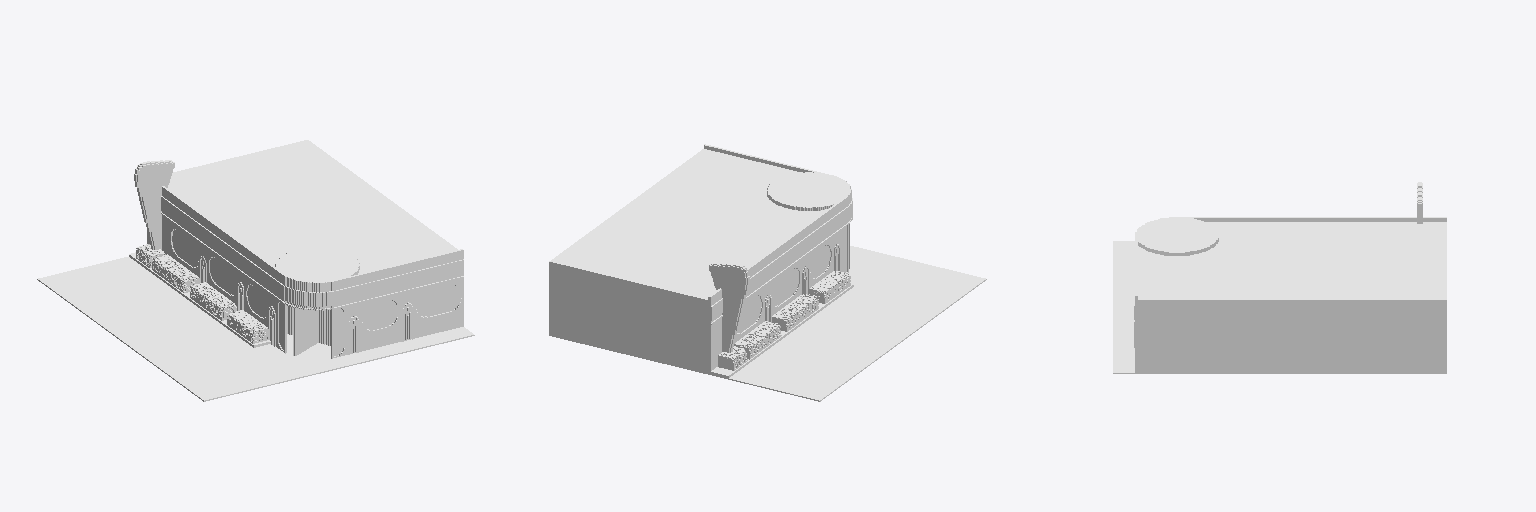
Rendered from ExtraBuildings3.obj.
The picture shows the model from 3 angles: view 1: azimuth 30°, elevation 25°; view 2: azimuth 150°, elevation 25°; view 3: azimuth 270°, elevation 25°; orthographic projection.
Parts seen in each view (by area): view 1: object 1; view 2: object 1; view 3: object 1.
Boxes of the visible parts, <box> form: object 1: <box>37,140,474,401</box>; object 1: <box>549,144,986,401</box>; object 1: <box>1113,182,1446,373</box>.
Bounding box in the file's own units: 24 × 8.8 × 25.6.